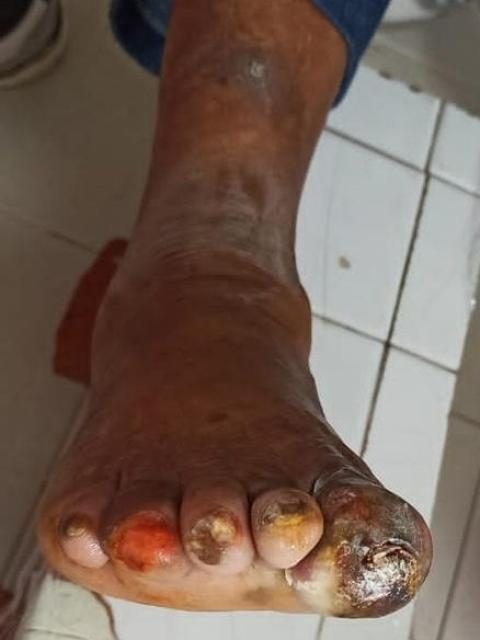wound: (292, 464, 429, 619), (106, 508, 183, 573), (190, 505, 245, 566), (259, 493, 318, 541)
